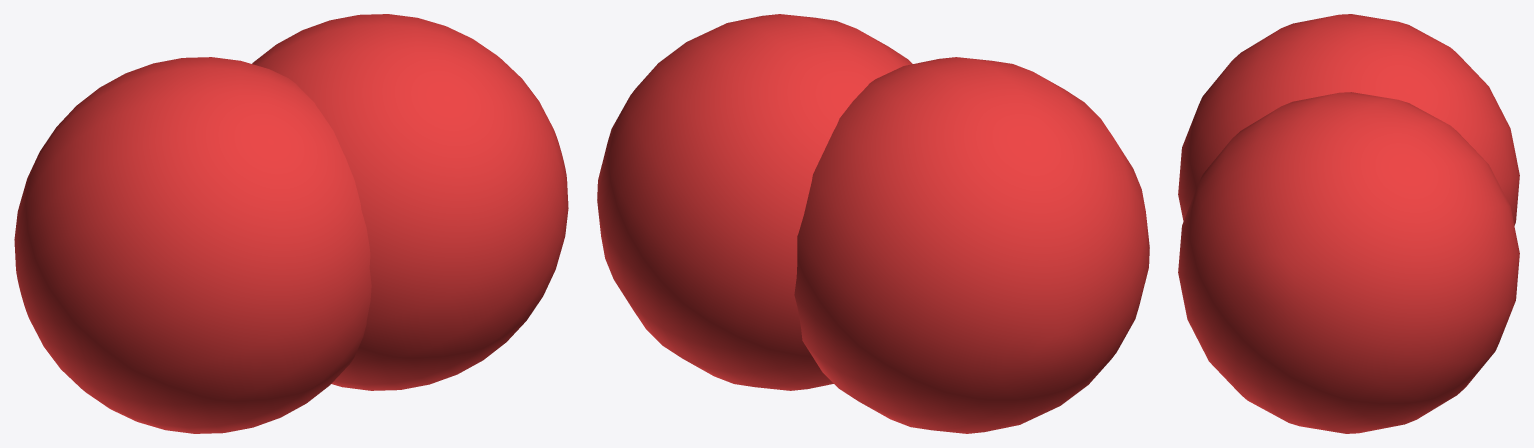
The picture shows the model from 3 angles, left to right: view 1: azimuth 30°, elevation 25°; view 2: azimuth 150°, elevation 25°; view 3: azimuth 270°, elevation 25°; orthographic projection. The views are drawn at different scales.
Parts seen in each view (by area): view 1: O2; view 2: O2; view 3: O2.
Boxes of the visible parts, bbox=[...] form: O2: bbox=[14, 14, 568, 433]; O2: bbox=[597, 14, 1149, 433]; O2: bbox=[1178, 14, 1519, 433].
Bounding box in the file's own units: 2.77 × 1.79 × 1.8.
